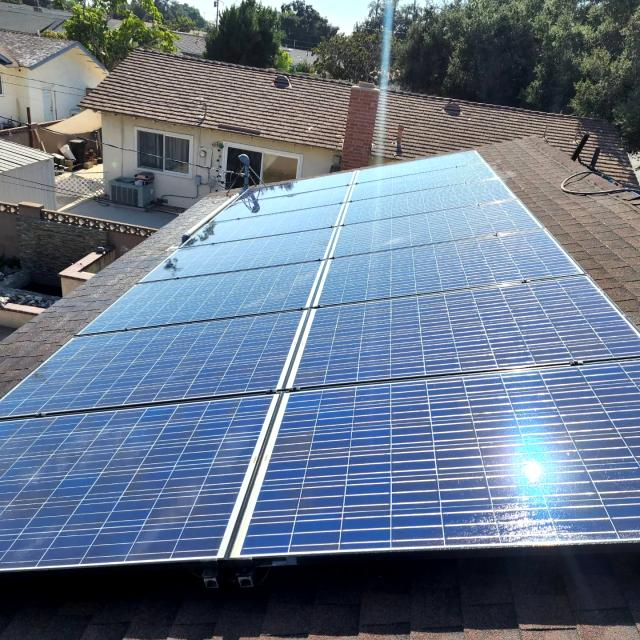crack: (234, 362, 640, 636), (279, 263, 639, 412), (0, 410, 286, 582), (299, 230, 626, 311), (96, 264, 405, 334), (0, 337, 276, 398)
